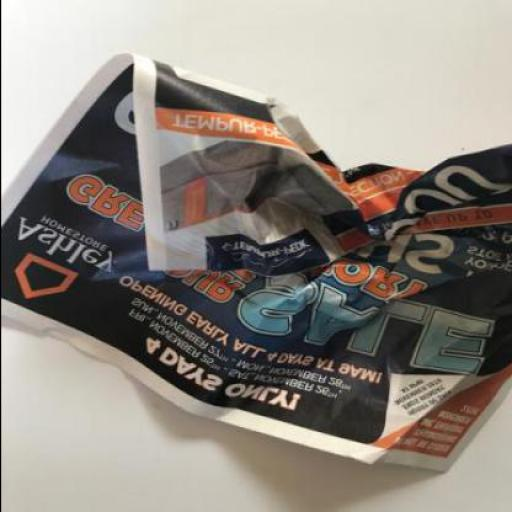paper: (1, 50, 511, 472)
